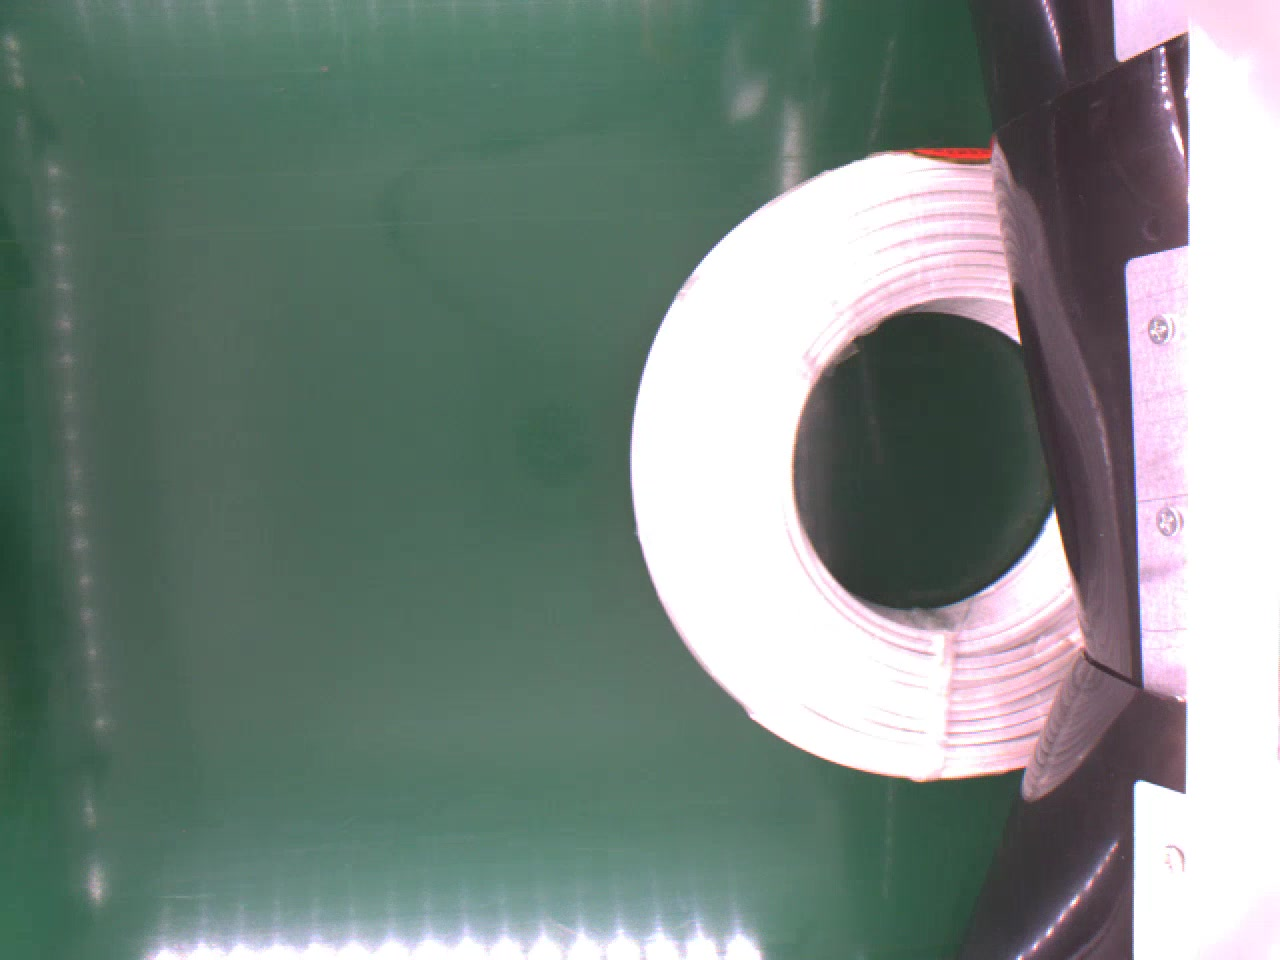white: (631, 139, 1077, 776)
